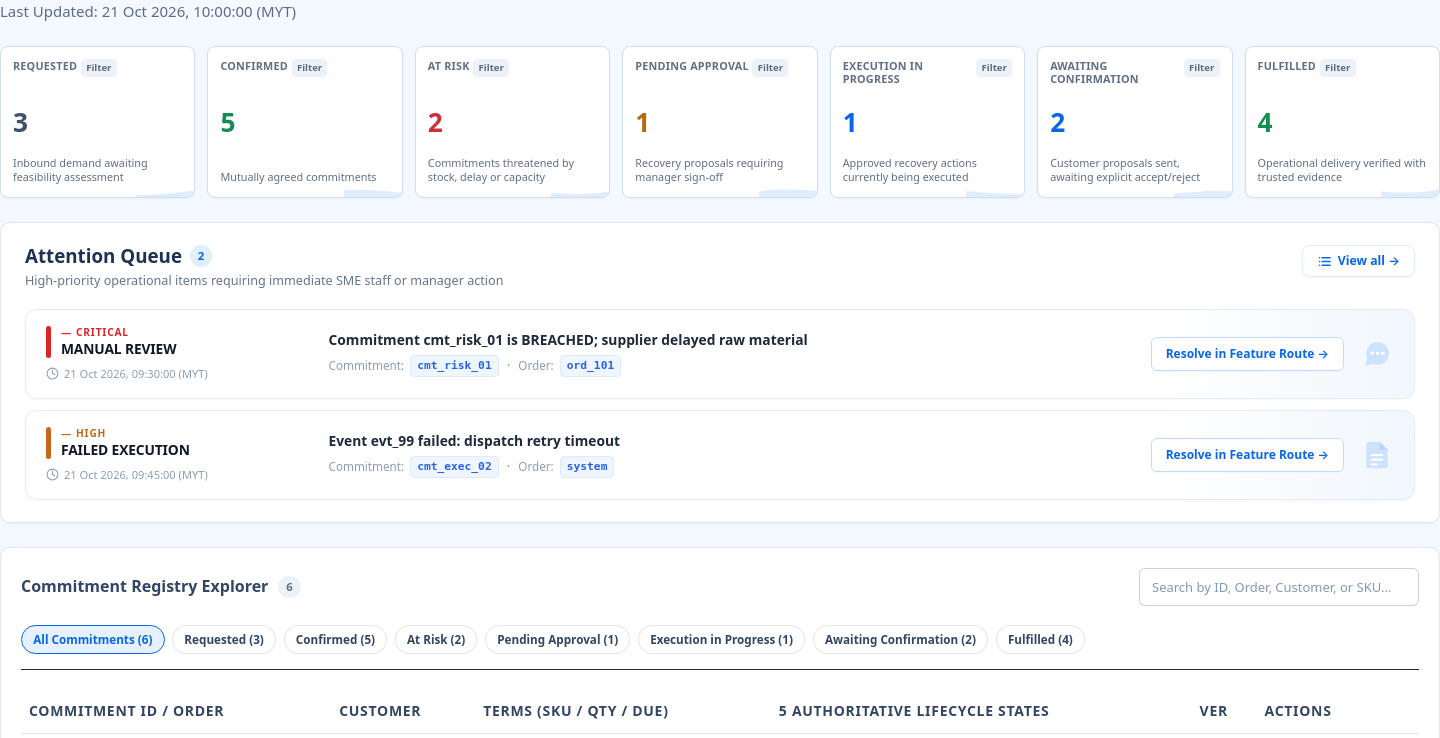
Test case: OverviewPage (FE-02a–e, UI-01) › filtering by state bucket updates visible commitments and deep links point to valid routes
Note: Click on "At Risk" card
Click the button with test id "card-at_risk" at (512, 122), box [415, 46, 610, 198]
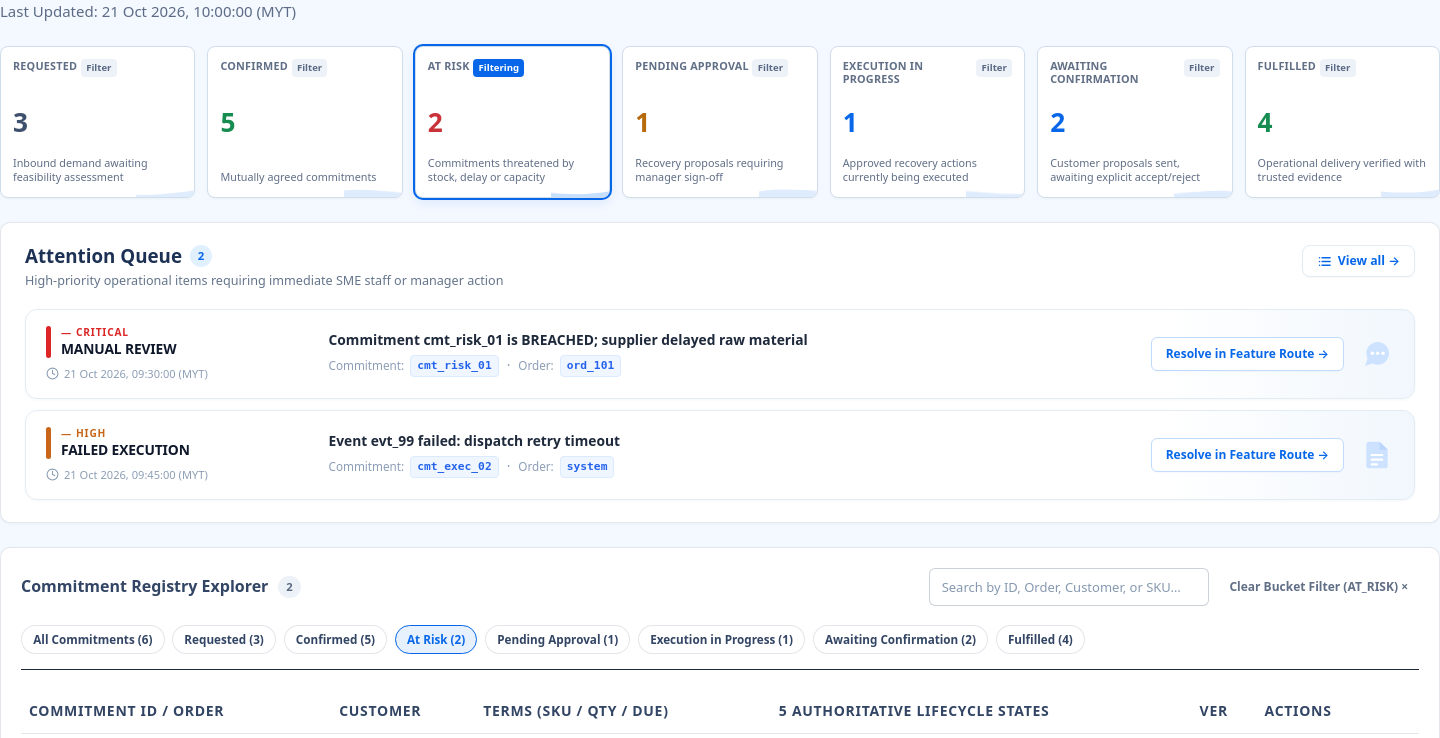
Note: Filter by search query
Type "SKU-PROD-C" into the search field with test id "commitment-search-input" at (1069, 587), box [929, 568, 1209, 606]
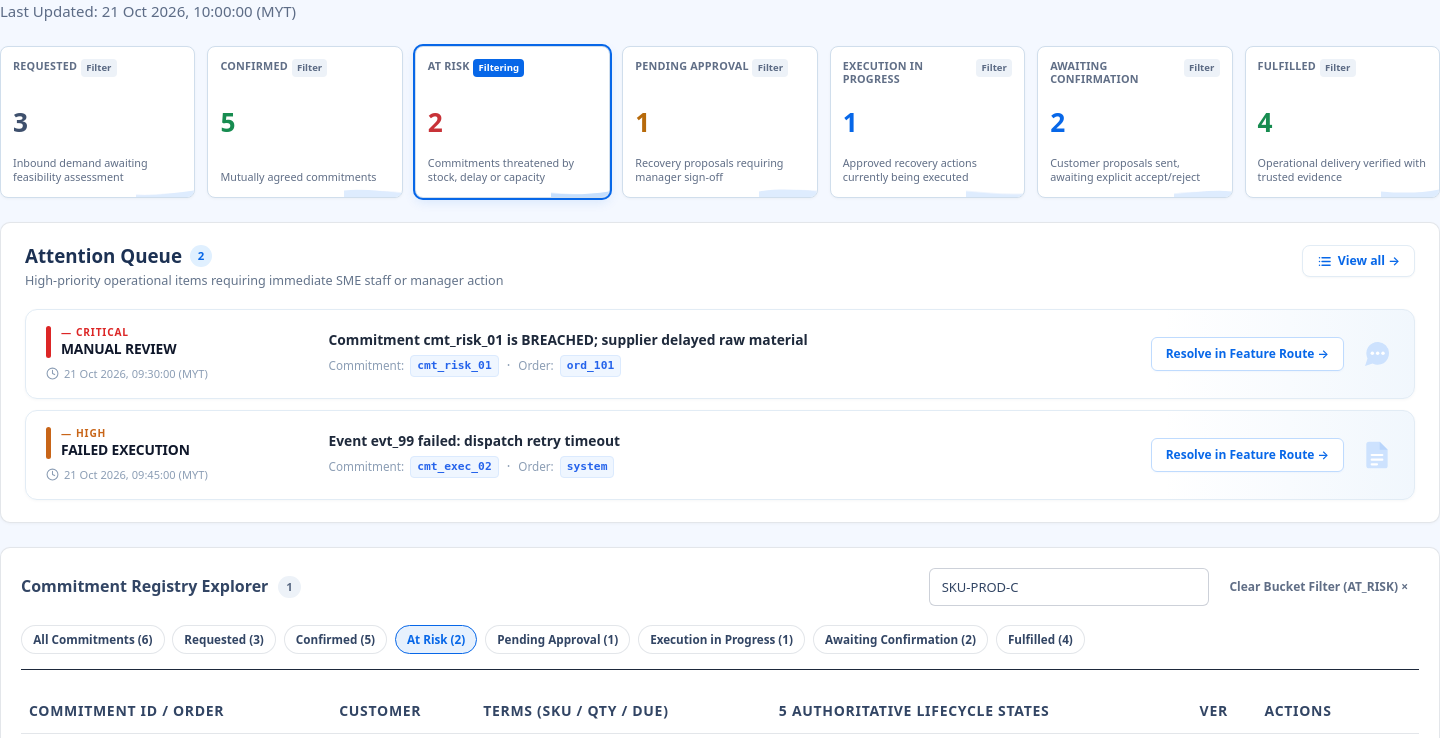
Note: Search for non-existent item shows empty state
Replace the text in the search field with test id "commitment-search-input" with "NONEXISTENT-SKU" at (1069, 587), box [929, 568, 1209, 606]
(page scrolled)
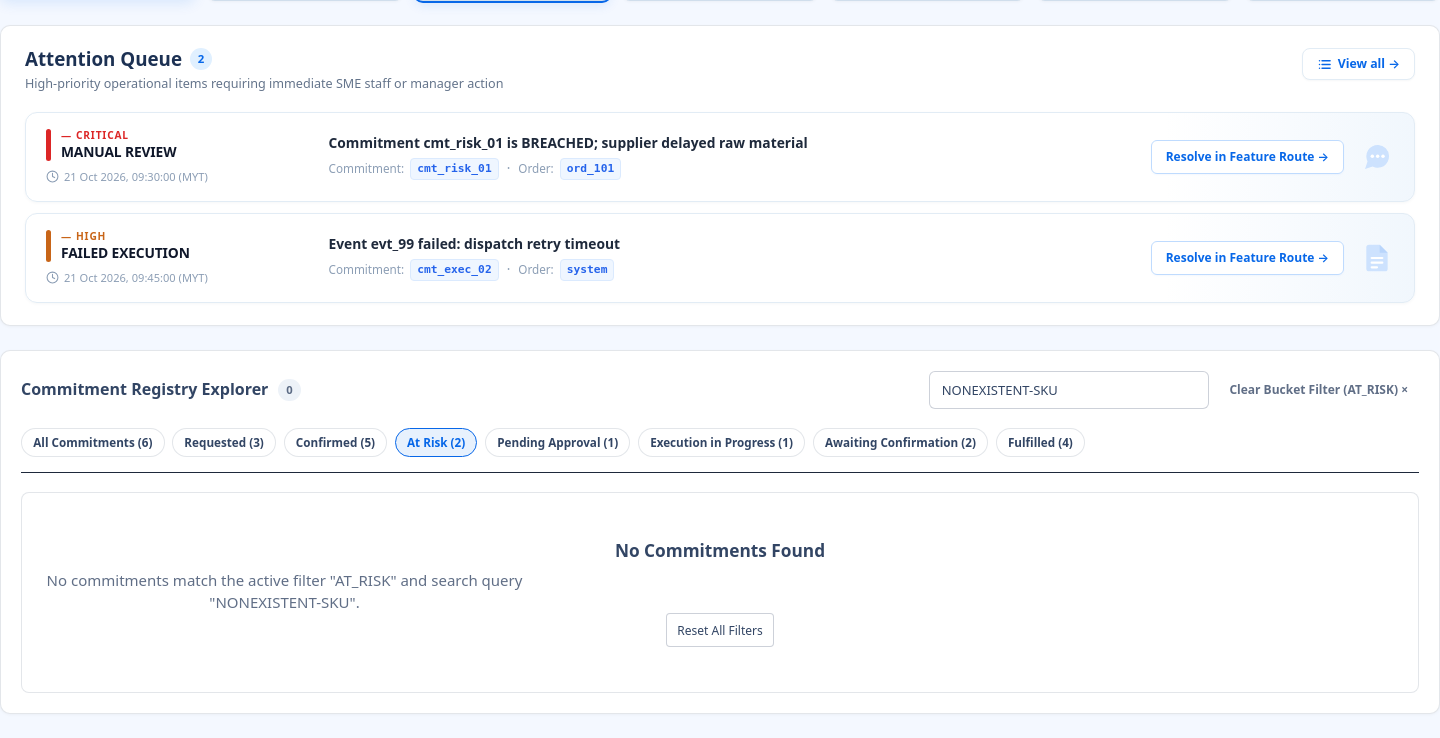
Expected: the element with test id "empty-commitments-state" is shown, [21, 492, 1419, 693]
